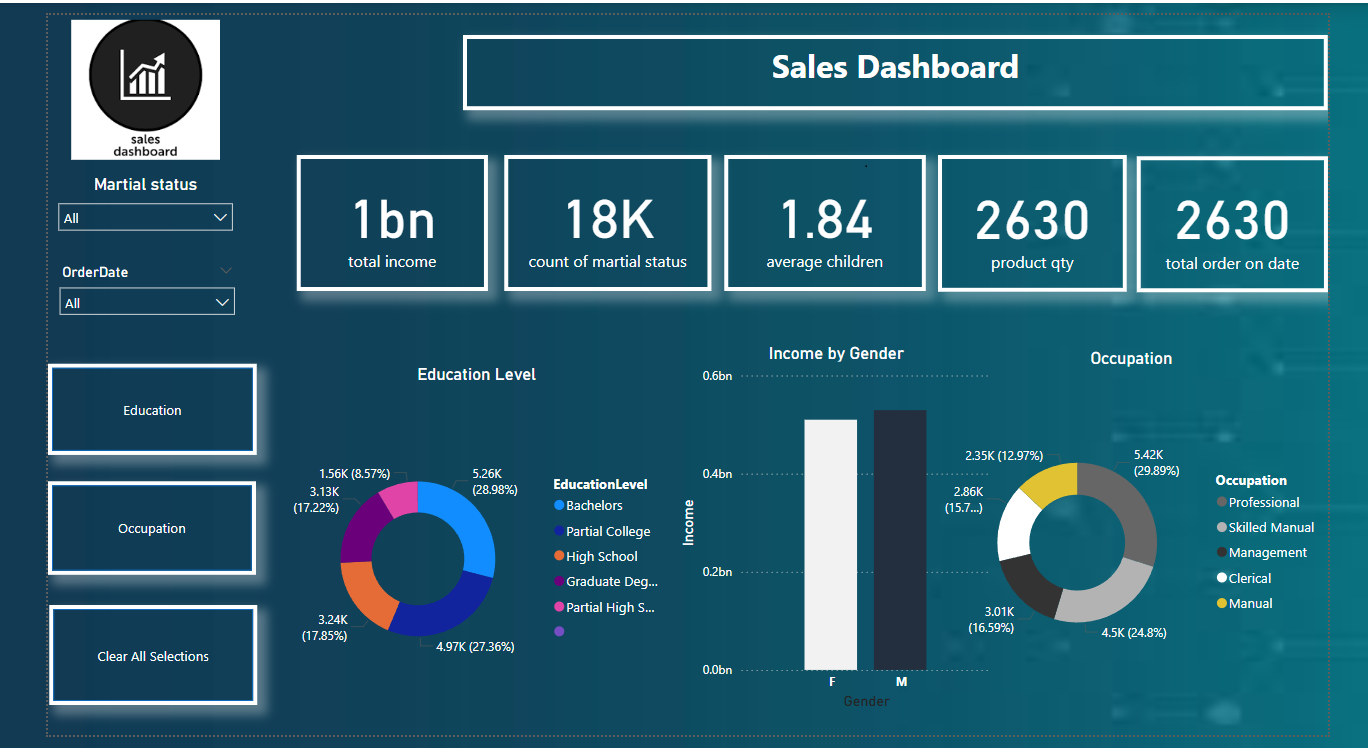

The dashboard page shown, as its layout file describes it:
{"tool":"powerbi","page":{"name":"Page 1","canvas":[1280,720],"ordinal":0},"visuals":[{"type":"donutChart","title":"Occupation","fields":{"Category":["customers.Occupation"],"Y":["CountNonNull(customers.Gender)"]},"box":[885.7,332.9,394.3,371.4],"z":1000},{"type":"image","box":[0,0,195.7,150],"z":2000},{"type":"card","title":"total revenue","fields":{"Values":["Table.total income"]},"box":[248.6,140,191.4,135.7],"z":3000},{"type":"clusteredColumnChart","title":"Income by Gender","fields":{"Category":["customers.Gender"],"Y":["Sum(customers.AnnualIncome)"]},"box":[627.1,327.1,321.4,371.4],"z":4000},{"type":"slicer","title":"Martial status","fields":{"Values":["customers.MaritalStatus"]},"box":[0,158.3,195,290],"z":5000},{"type":"card","fields":{"Values":["Table.average children"]},"box":[675.7,140,201.4,135.7],"z":6000},{"type":"card","fields":{"Values":["Table.count of martial status"]},"box":[455.7,140,207.1,135.7],"z":7000},{"type":"card","fields":{"Values":["Table.average product qty"]},"box":[890,140,188.6,137.1],"z":8000},{"type":"textbox","box":[415,20,865,75],"z":9000},{"type":"slicer","fields":{"Values":["sales 2015.OrderDate"]},"box":[1.4,244.3,195.7,150],"z":10000},{"type":"card","fields":{"Values":["Table.total order on date"]},"box":[1088.6,141.4,191.4,135.7],"z":12000},{"type":"donutChart","title":"Education Level","fields":{"Y":["CountNonNull(customers.Gender)"],"Category":["customers.EducationLevel"]},"box":[230,348.6,397.1,371.4],"z":12001},{"type":"shape","box":[0,348.9,208.9,91.1],"z":12002},{"type":"shape","box":[0,466.7,207.8,93.3],"z":12003},{"type":"shape","box":[1.1,590,207.8,100],"z":12004}]}

Visuals, with their boxes in screenshot pixels (x1, y1, x2, y2), scaled from the page's 1280x720 canvas onto the 1368x748 screenshot:
"Occupation" donutChart: 947 346 1367 732
image: 0 0 209 156
"total revenue" card: 266 145 470 286
"Income by Gender" clusteredColumnChart: 670 340 1014 726
"Martial status" slicer: 0 164 208 466
card - Table.average children: 722 145 937 286
card - Table.count of martial status: 487 145 708 286
card - Table.average product qty: 951 145 1153 288
textbox: 444 21 1367 99
slicer - sales 2015.OrderDate: 1 254 211 410
card - Table.total order on date: 1163 147 1367 288
"Education Level" donutChart: 246 362 670 747
shape: 0 362 223 457
shape: 0 485 222 582
shape: 1 613 223 717
